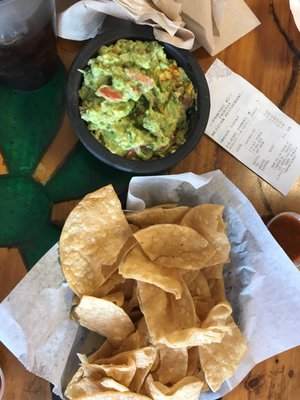pizza: (0, 0, 59, 93)
sushi: (63, 18, 212, 175)
